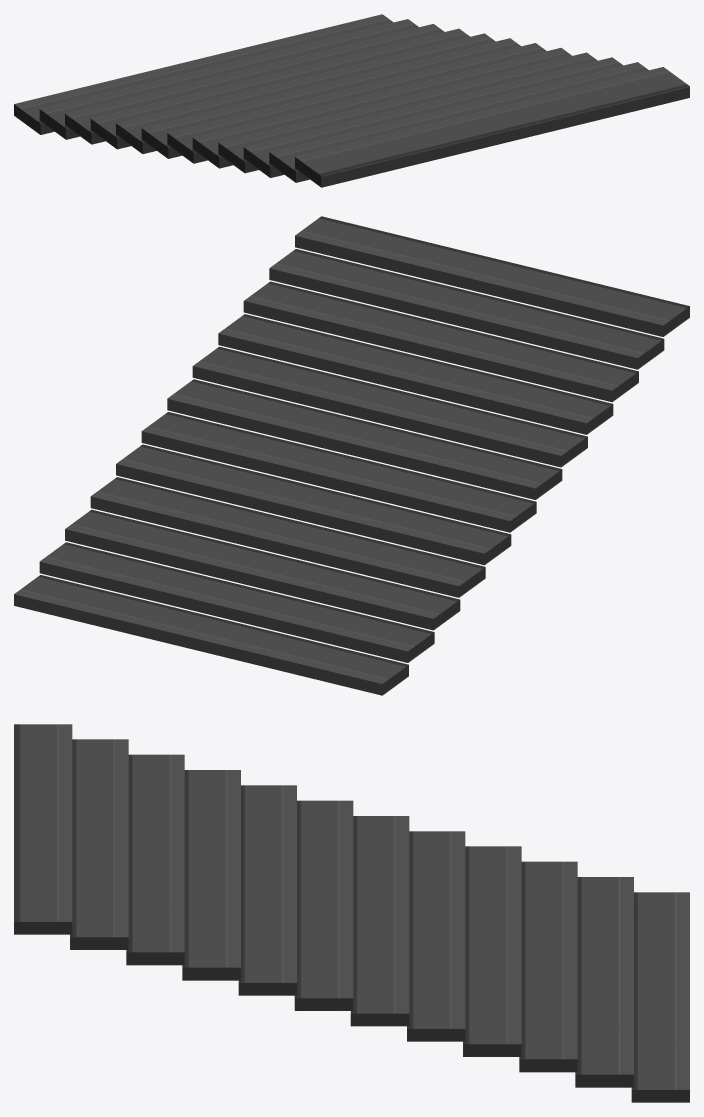
The model's file is Stair.glb.
3 renders of one model, top to bottom at view 1: azimuth 30°, elevation 25°; view 2: azimuth 150°, elevation 25°; view 3: azimuth 270°, elevation 25°, orthographic. The views are drawn at different scales.
Parts seen in each view (by area): view 1: Cube; view 2: Cube; view 3: Cube.
Boxes of the visible parts, left/top/right/bottom form: Cube: left=14, top=14, right=689, bottom=187; Cube: left=14, top=216, right=689, bottom=695; Cube: left=14, top=724, right=689, bottom=1102.
Bounding box in the file's own units: 4 × 1.71 × 5.78.
1 material, 1 textured.
